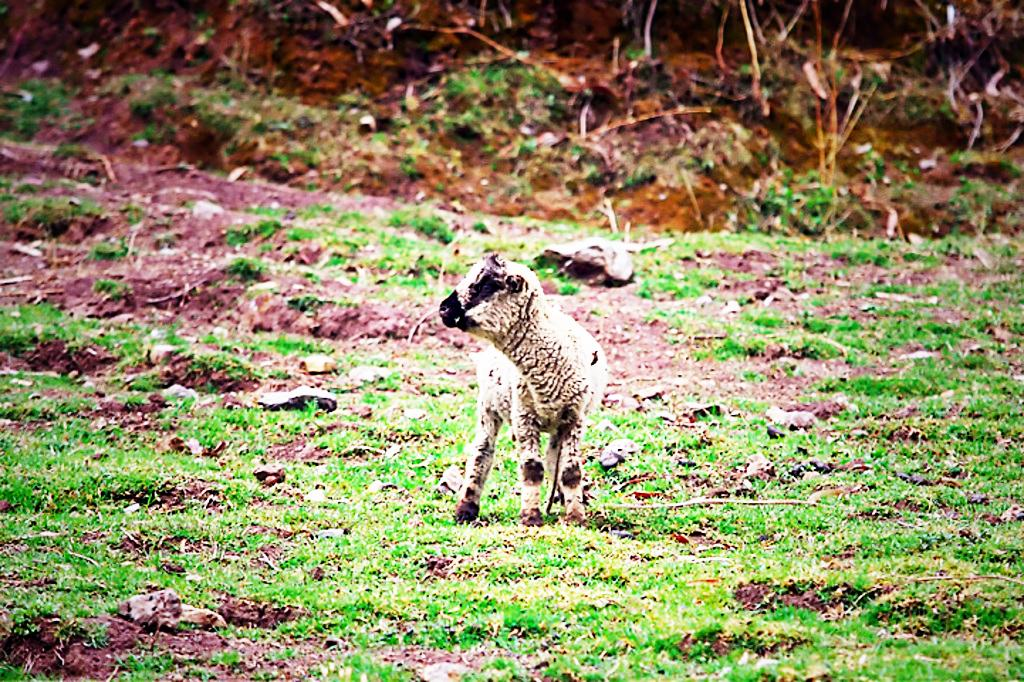Sheep: (432, 260, 612, 514)
